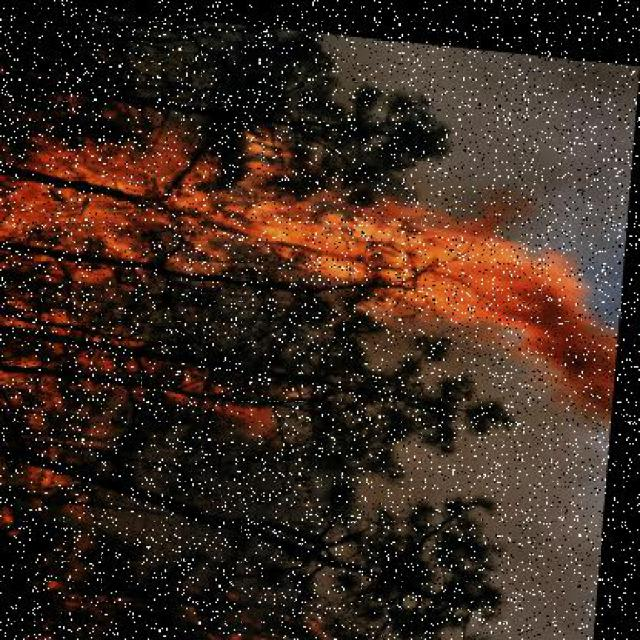fire: (1, 98, 634, 416)
